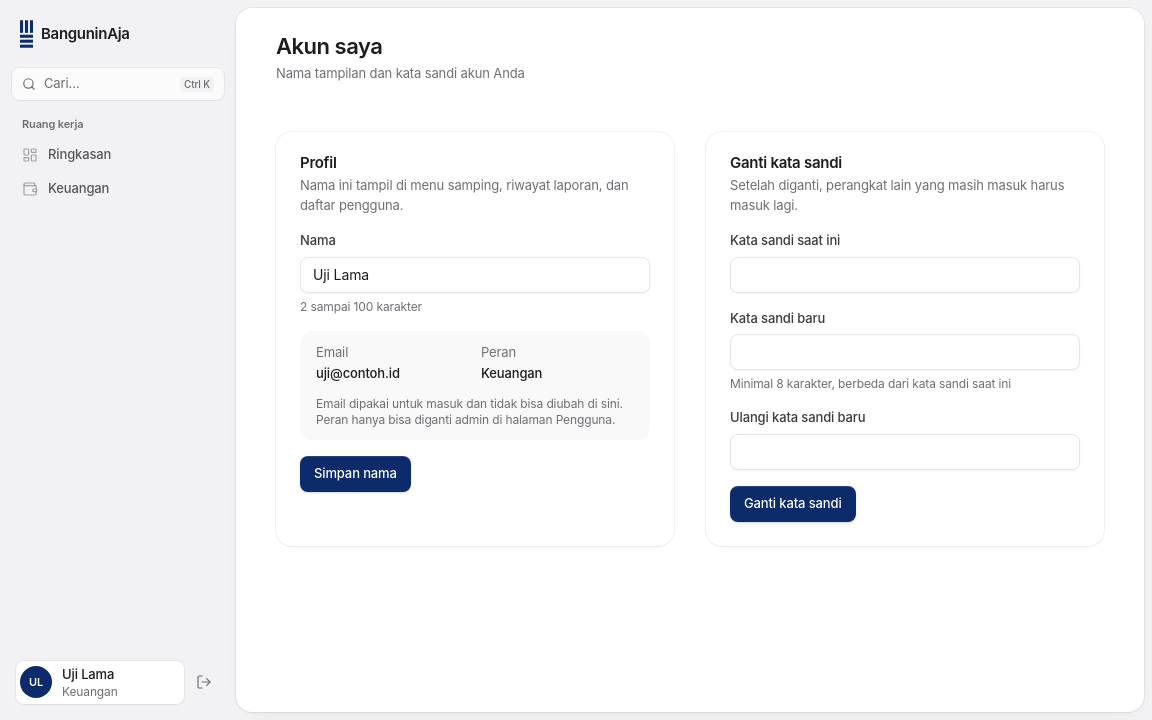
Test: AccountPage password › sends current and new password, then clears the form
The image size is (1152, 720).
Type "rahasia123" into the password field labelled "Kata sandi saat ini" at (905, 274), box [730,256,1080,292]
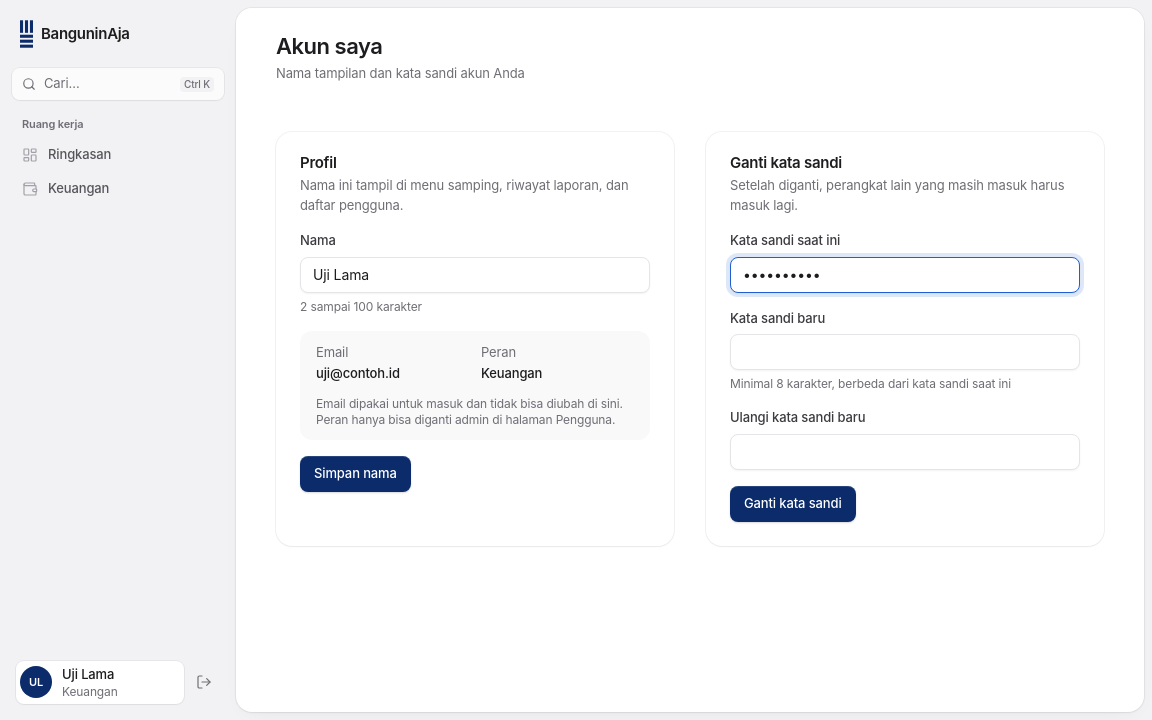
Type "sandi-baru-456" into the password field labelled "Kata sandi baru" at (905, 352), box [730,334,1080,370]
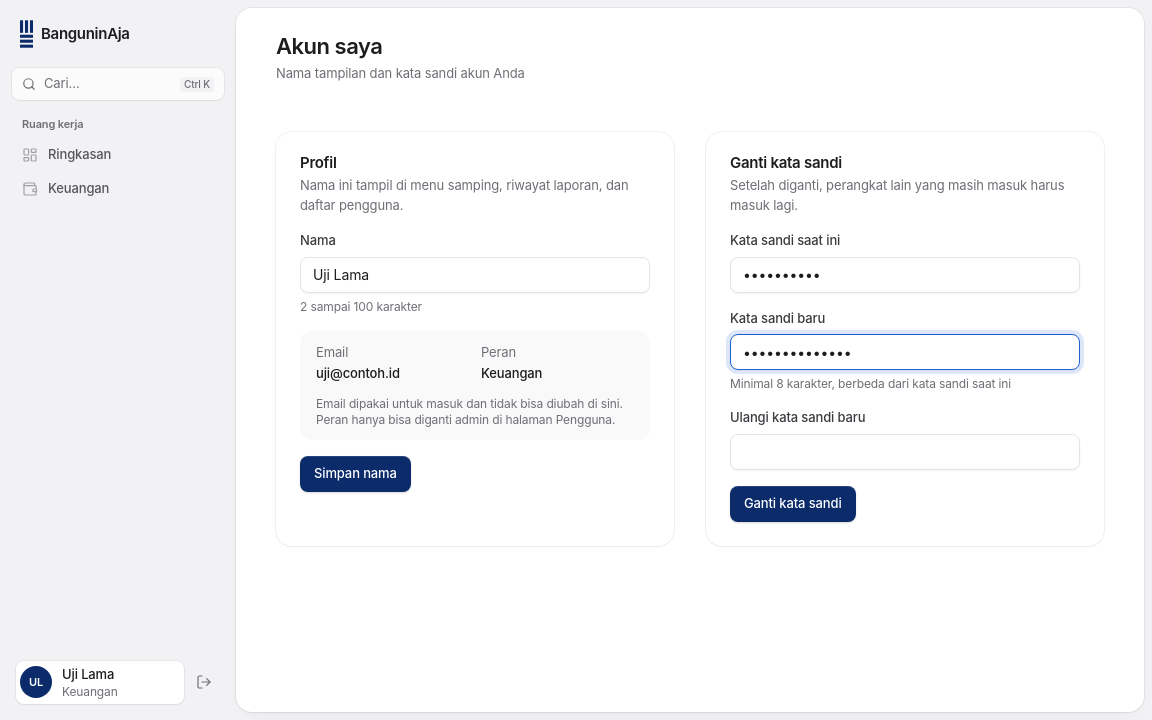
Type "sandi-baru-456" into the password field labelled "Ulangi kata sandi baru" at (905, 452), box [730,434,1080,470]
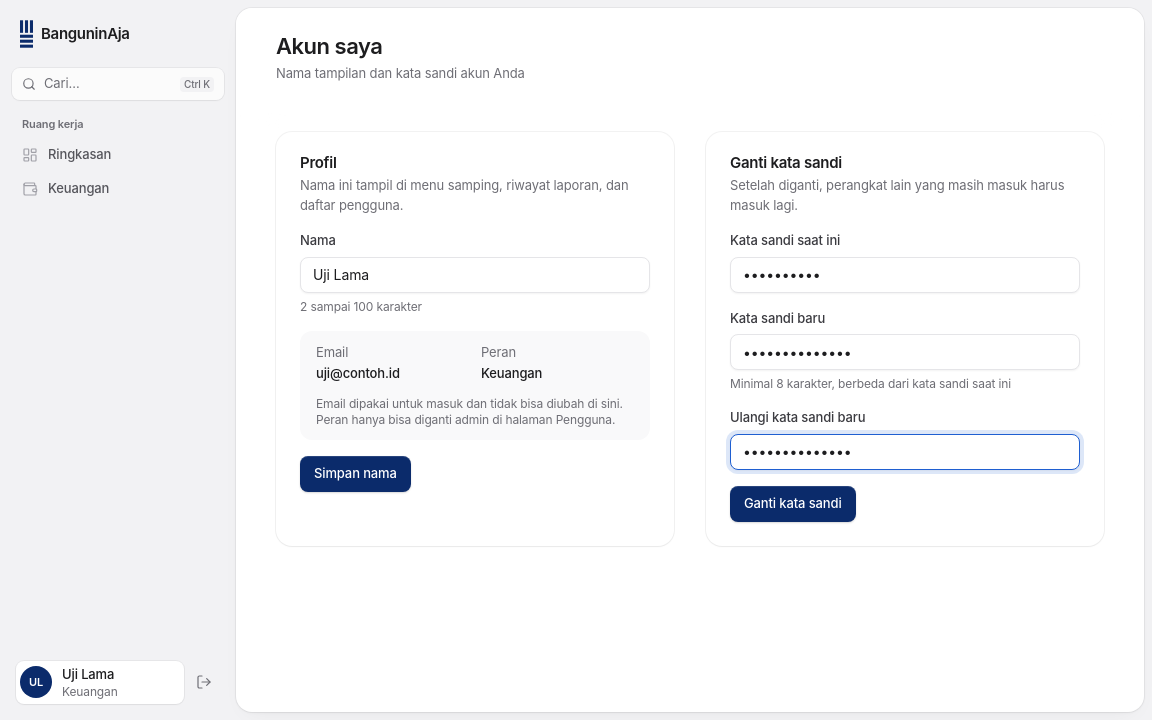
Click the button "Ganti kata sandi" at (793, 504), box [730,486,856,522]
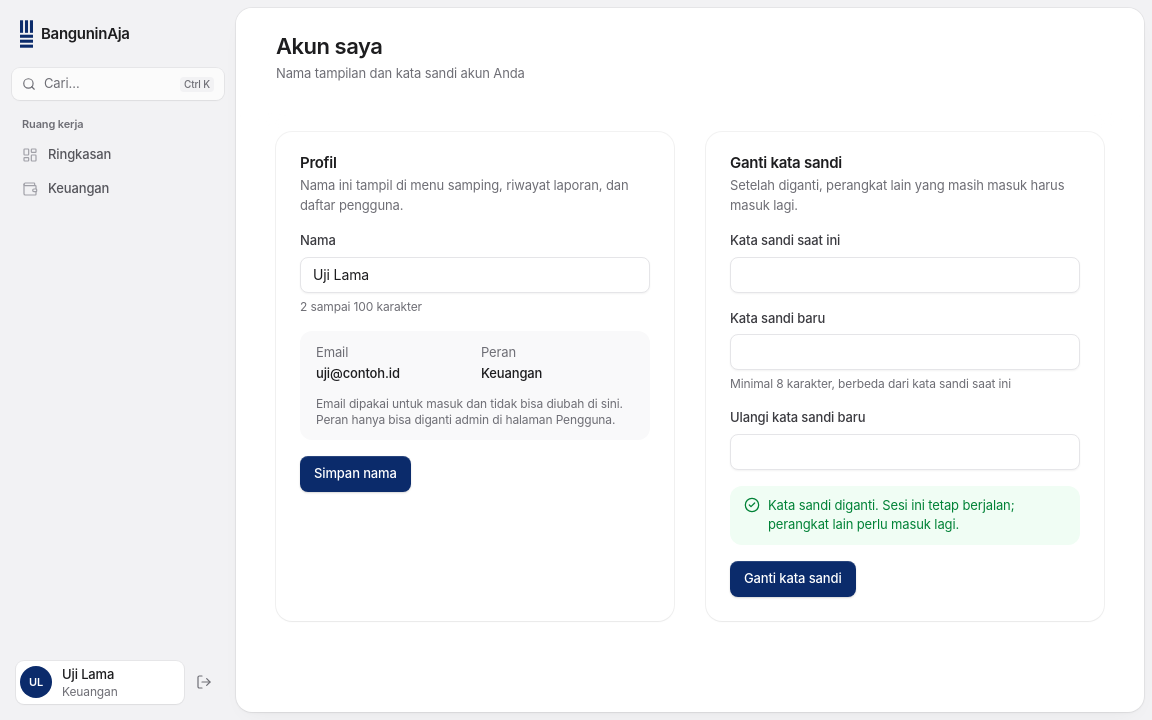
Expected: the text "Kata sandi diganti. Sesi ini tetap berjalan; perangkat lain perlu masuk lagi." is shown, [730,486,1080,544]
Expected: the password field labelled "Kata sandi saat ini" is empty, [730,256,1080,292]
Expected: the password field labelled "Kata sandi baru" is empty, [730,334,1080,370]
